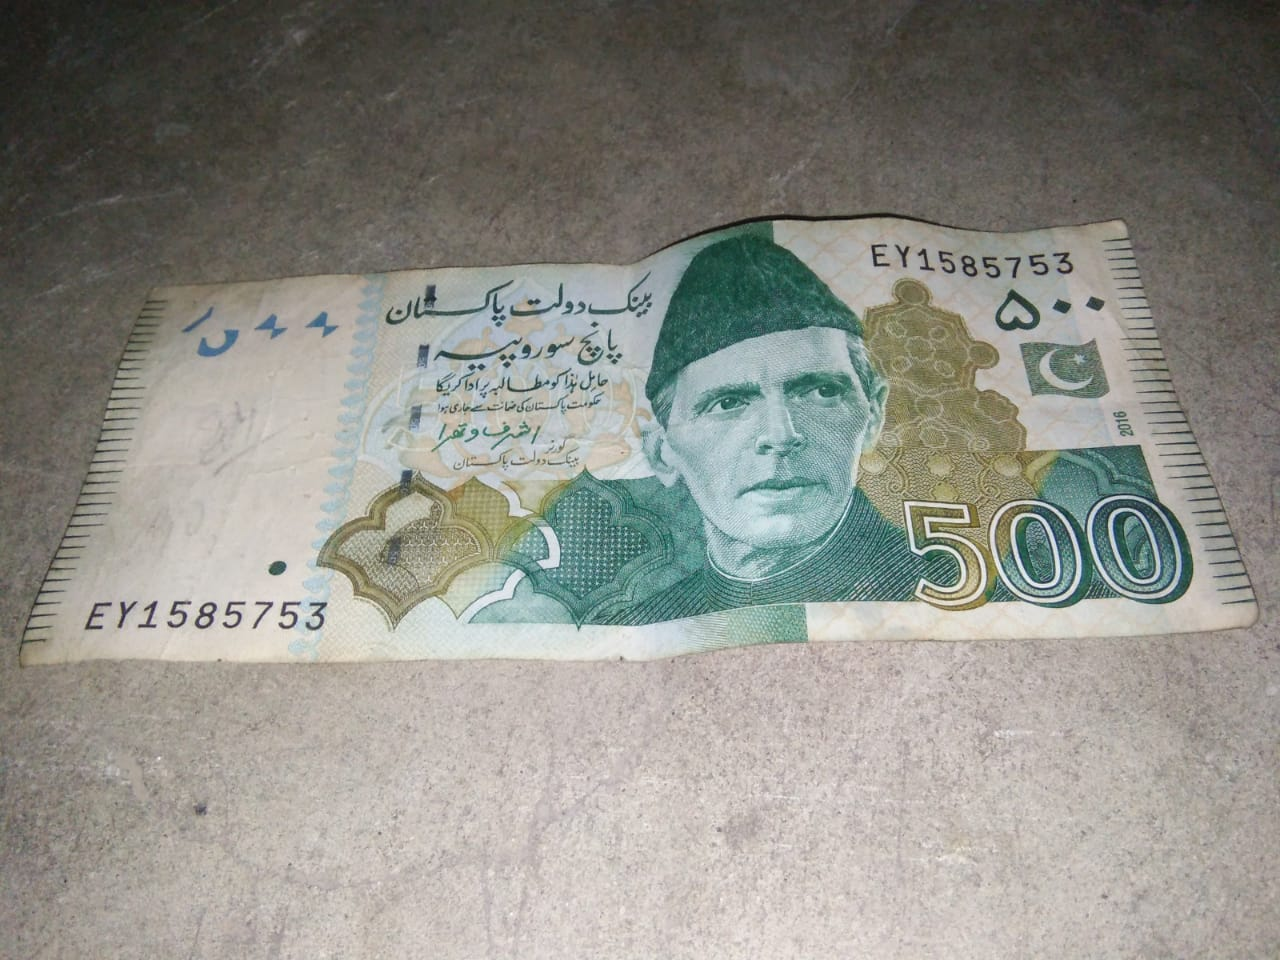500 rupee: (44, 206, 1261, 743)
